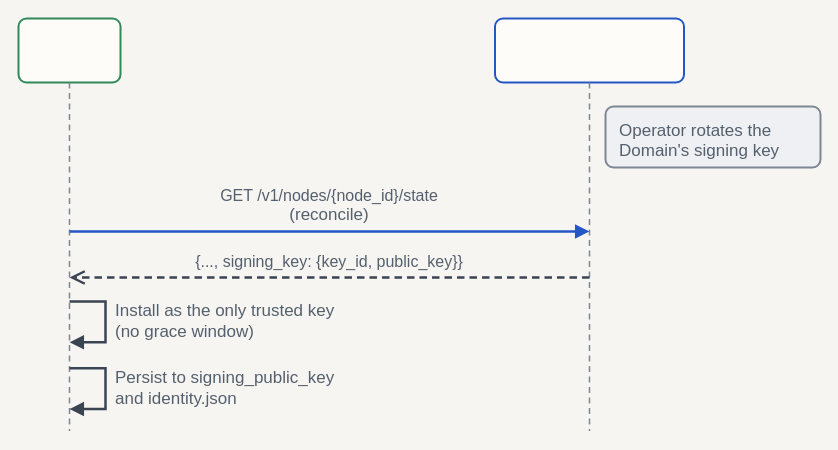
Image size: 838x450. Some labels were removed from this diagram. Each missing label, with the centre of its shape:
Client plexd: point (69, 50)
Control Plane: point (589, 50)
